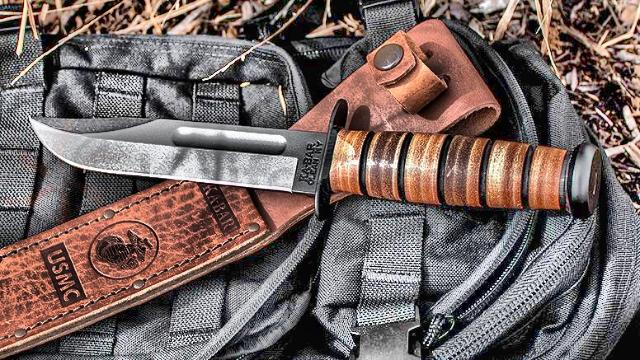knife: (21, 104, 352, 216)
